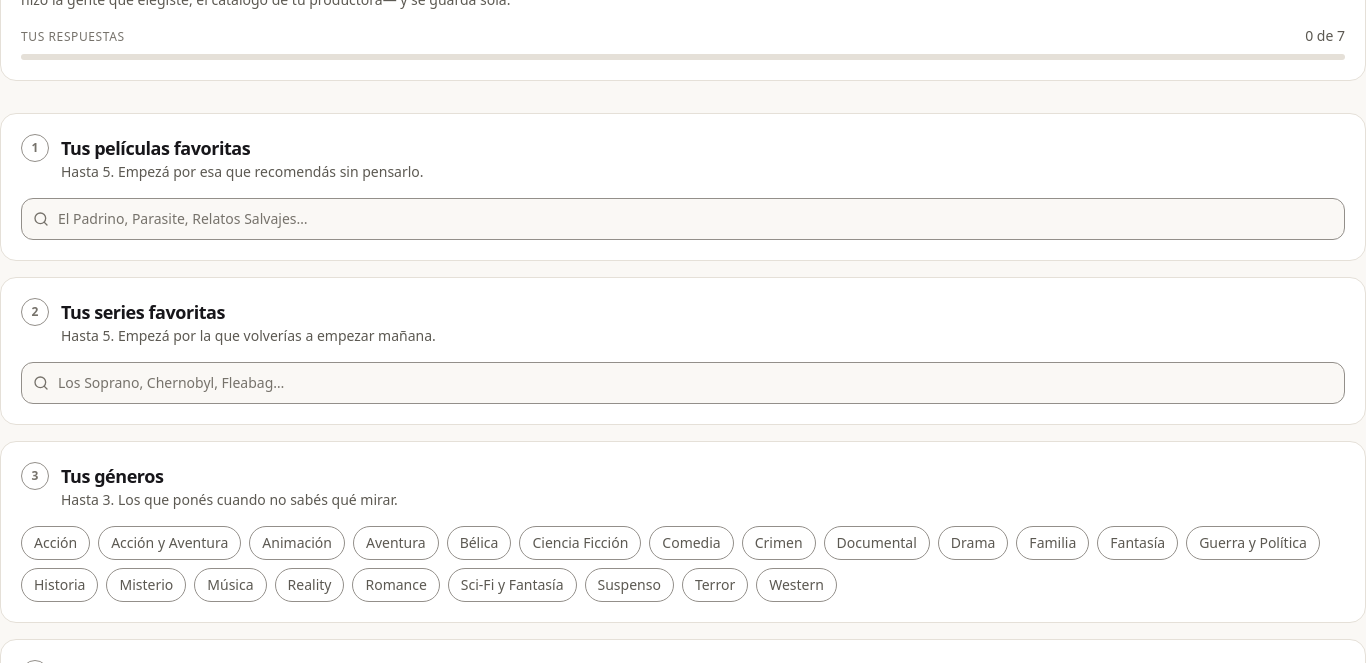
Test: Contanos de vos › lo que no te interesa › no deja que un género sea favorito y excluido a la vez
Click the button "Comedia": coordinates (692, 543) [649,526,734,560]
(page scrolled)
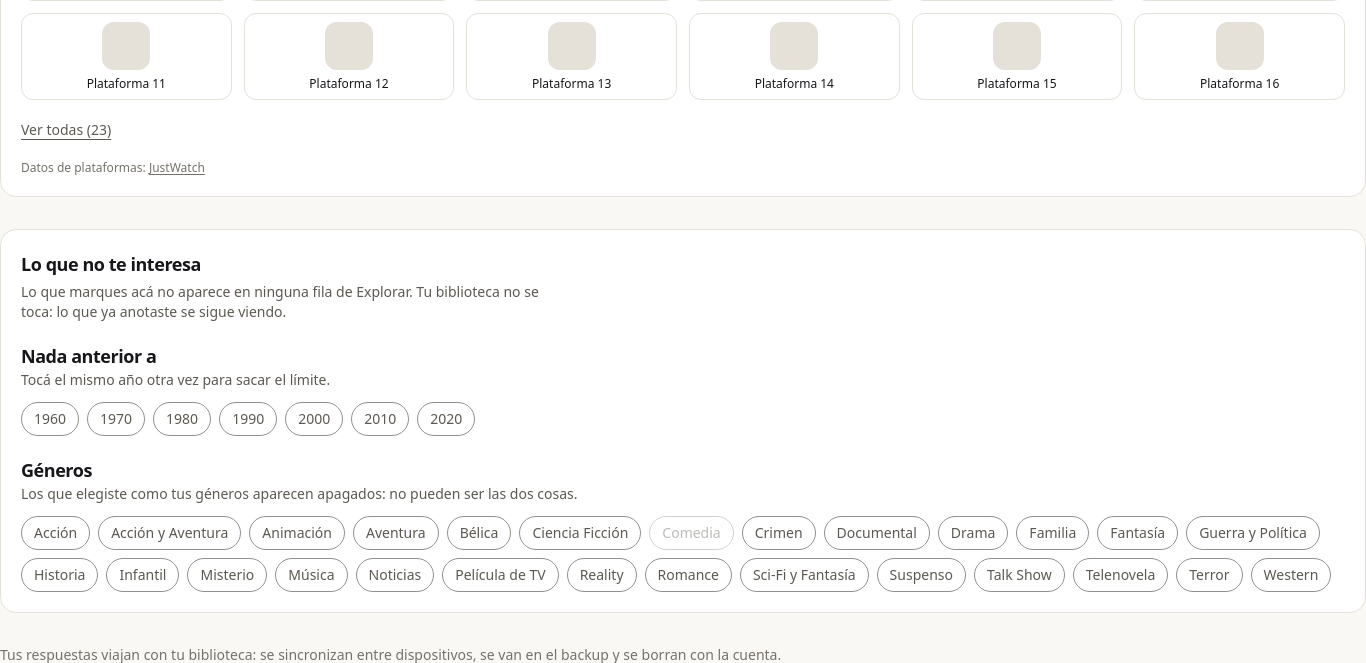
Expected: the button "Comedia" is disabled, [649,516,734,550]
Click the button "Terror": coordinates (1209, 575) [1176,558,1243,592]
(page scrolled)
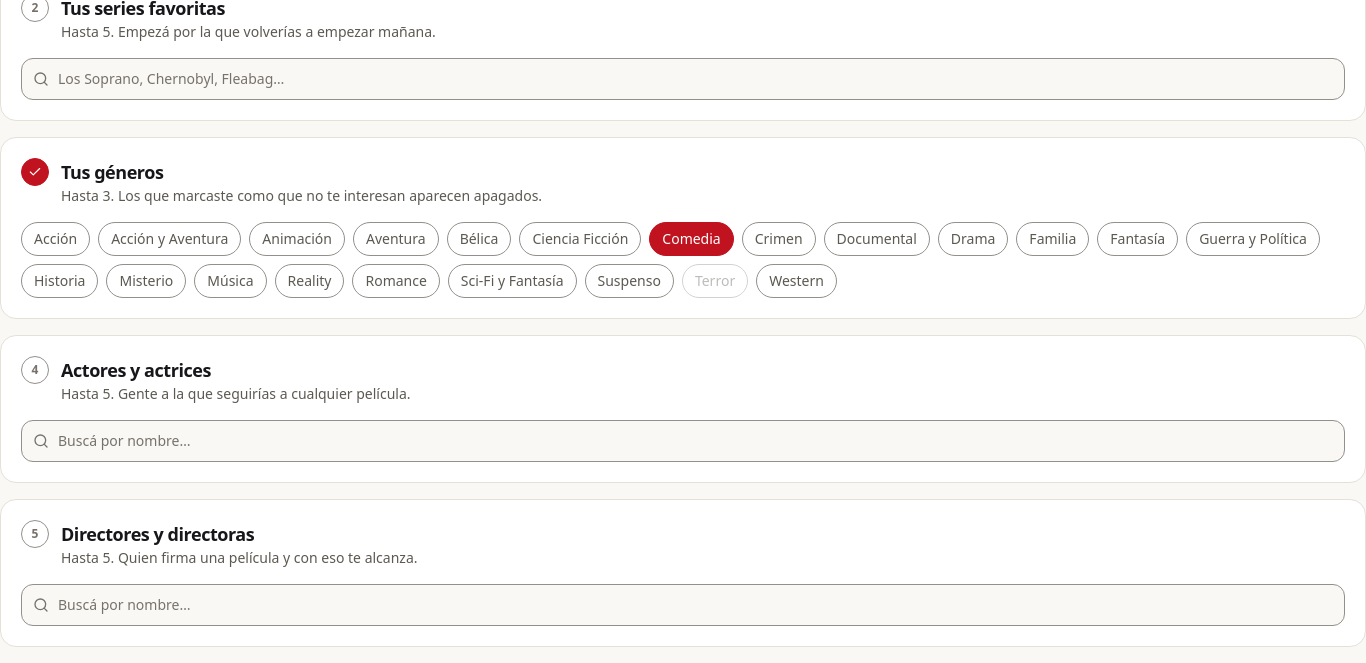
Expected: the button "Terror" is disabled, [682,264,748,298]
